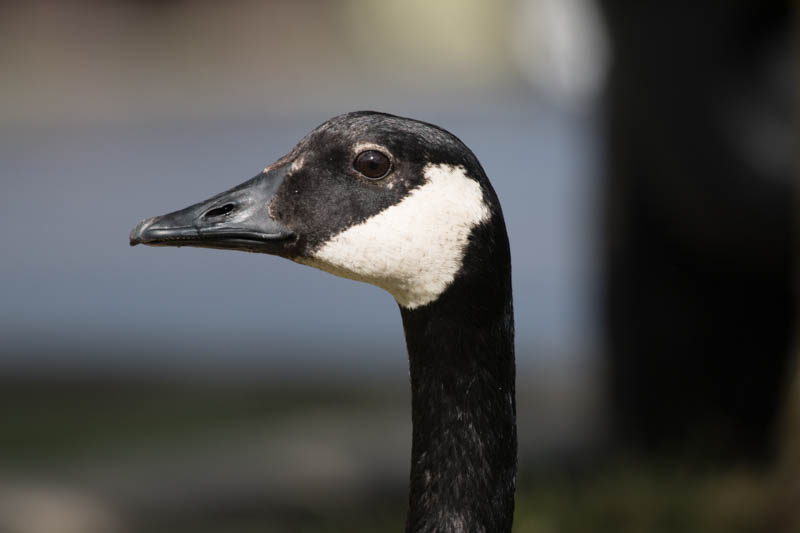goose-head: (128, 110, 512, 310)
